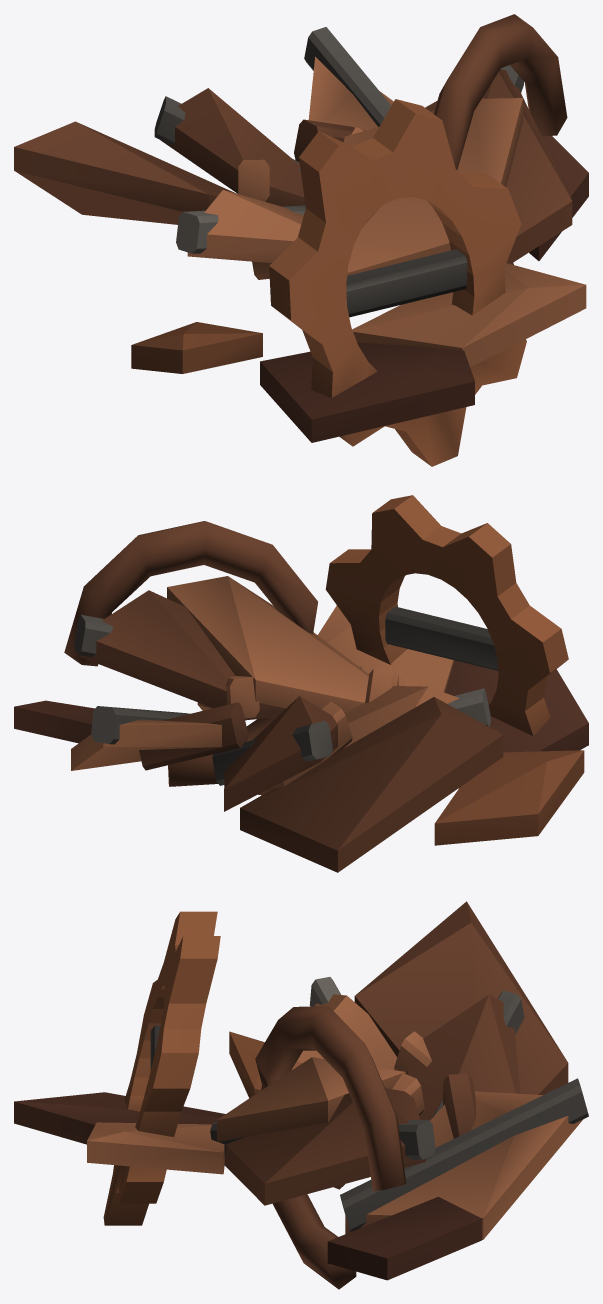
The model's file is building-magnetCrane-scrapLarge-low.glb.
The picture shows the model from 3 angles, top to bottom: view 1: azimuth 30°, elevation 25°; view 2: azimuth 150°, elevation 25°; view 3: azimuth 270°, elevation 25°; orthographic projection. The views are drawn at different scales.
Visible parts, largest first — view 1: 0_magnetCrane-scrapLarge; view 2: 0_magnetCrane-scrapLarge; view 3: 0_magnetCrane-scrapLarge.
Boxes of the visible parts, x1,y1,x2,y2 form: 0_magnetCrane-scrapLarge: (14,14,588,466); 0_magnetCrane-scrapLarge: (14,495,588,872); 0_magnetCrane-scrapLarge: (14,901,588,1289).
Bounding box in the file's own units: 1.99 × 1.13 × 2.
